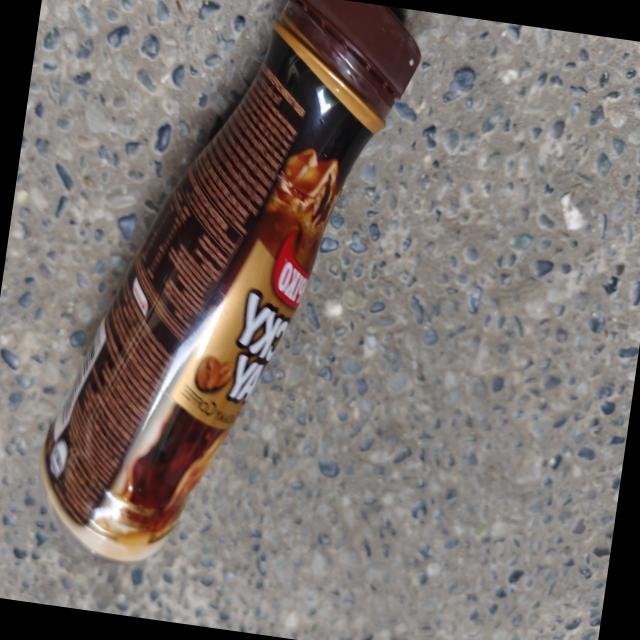Bottle: (41, 0, 420, 562)
